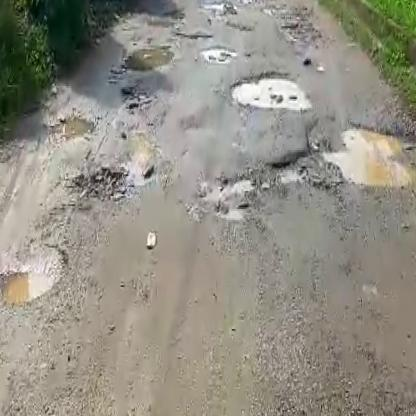pothole: (269, 117, 416, 195), (0, 245, 68, 310), (226, 68, 311, 111), (66, 161, 128, 210), (195, 172, 254, 217), (118, 42, 174, 74), (46, 110, 93, 145), (198, 44, 237, 61), (172, 25, 214, 40)
